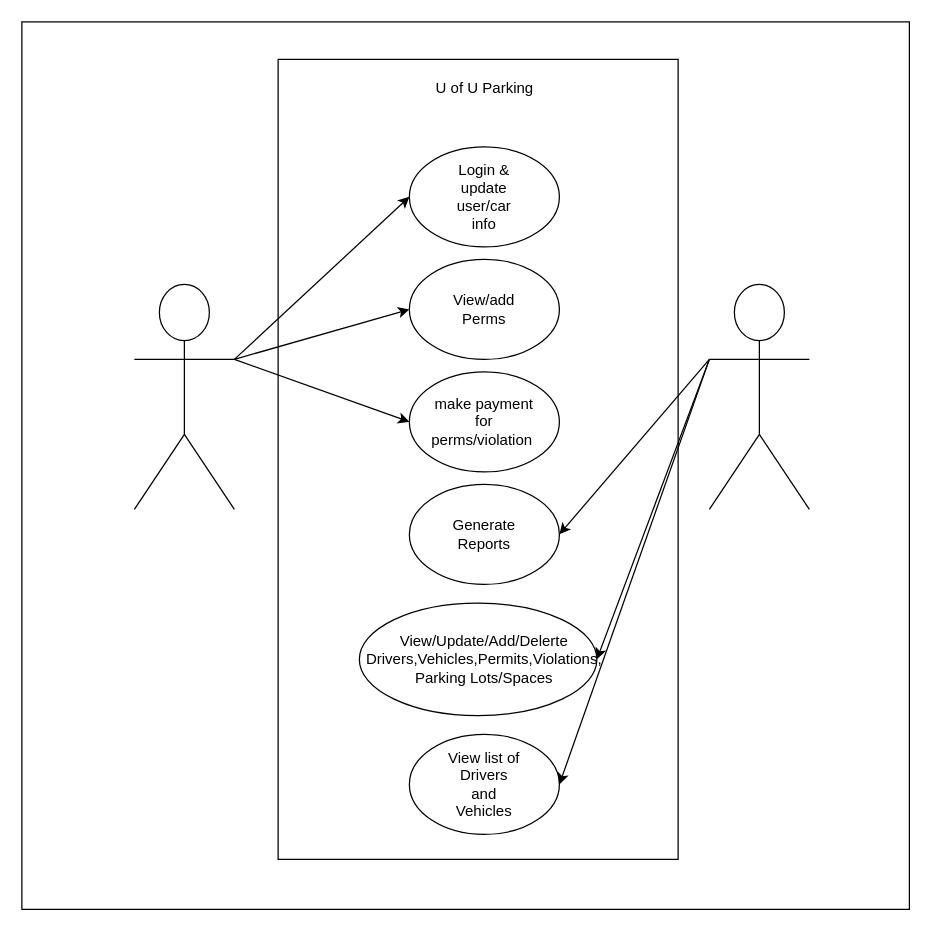
Some shapes in this 931 by 931 pixel diagram are drawn without their labels. The box of each missing label's shape, as (x1, y1, x2, y2) in pixels:
Administrator: (708, 283, 809, 509)
Driver: (133, 283, 234, 509)
